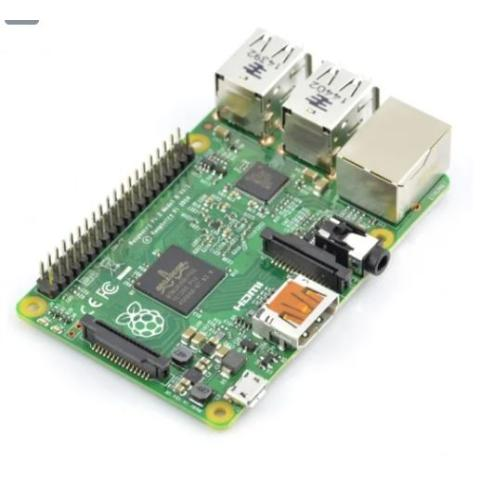Raspberry-Pi-2-Model-B: (10, 23, 460, 442)
